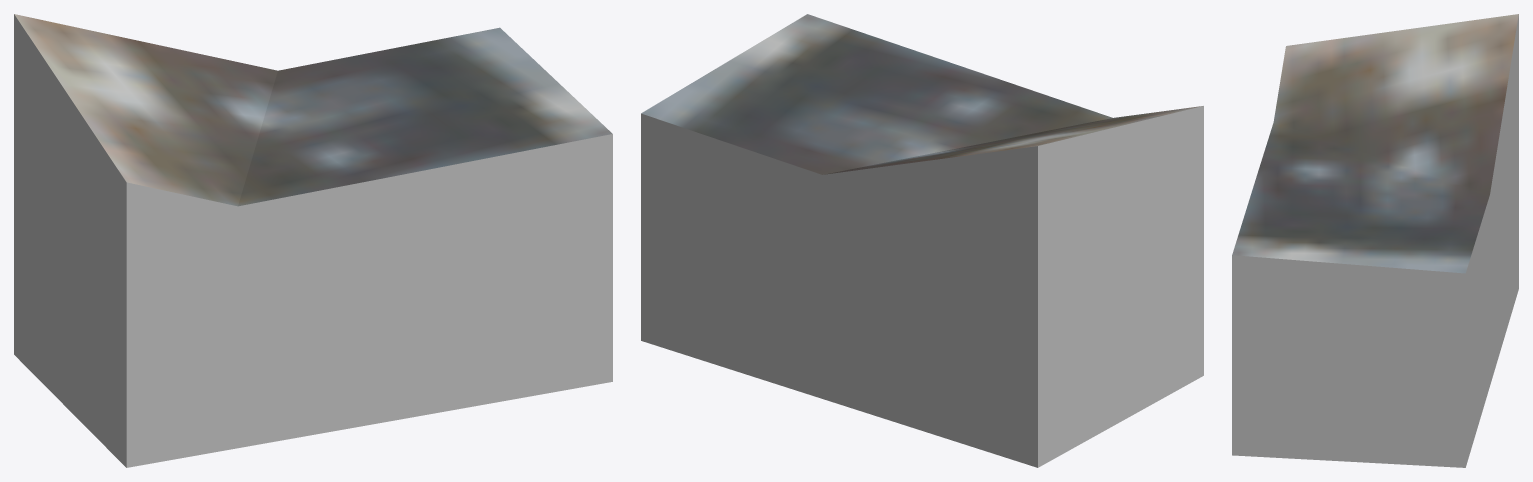
Rendered from DEBW_0010007Tx5h.gltf.
The picture shows the model from 3 angles, left to right: view 1: azimuth 30°, elevation 25°; view 2: azimuth 150°, elevation 25°; view 3: azimuth 270°, elevation 25°; orthographic projection. The views are drawn at different scales.
Parts seen in each view (by area): view 1: Z_UP; view 2: Z_UP; view 3: Z_UP.
Boxes of the visible parts, x1,y1,x2,y2 form: Z_UP: (14, 14, 612, 467); Z_UP: (641, 14, 1203, 467); Z_UP: (1232, 14, 1518, 467).
Bounding box in the file's own units: 6.72 × 4.51 × 4.26.
2 materials, 1 textured.
